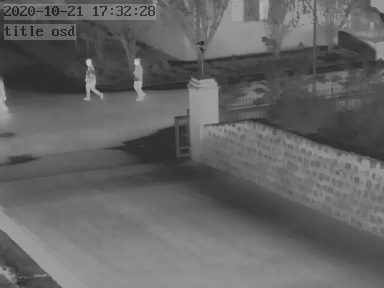person: (131, 56, 147, 102), (85, 57, 101, 99)
